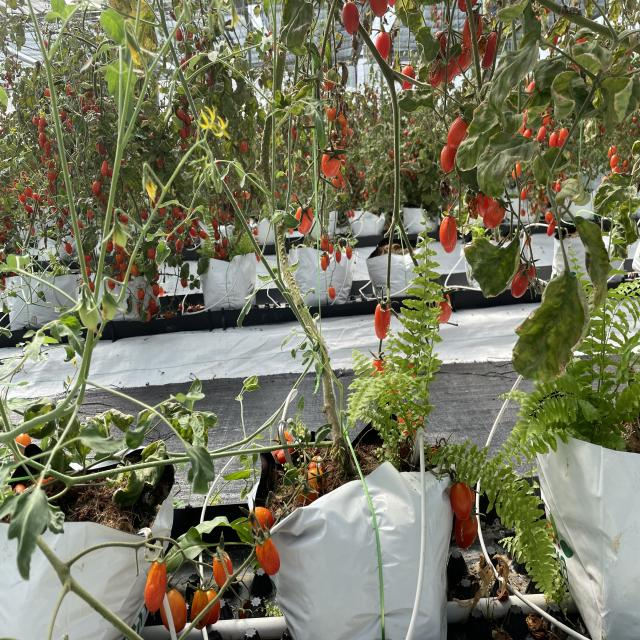Soilbag: (244, 431, 457, 639), (6, 458, 182, 640), (529, 417, 640, 637)
plant: (256, 4, 402, 464)
